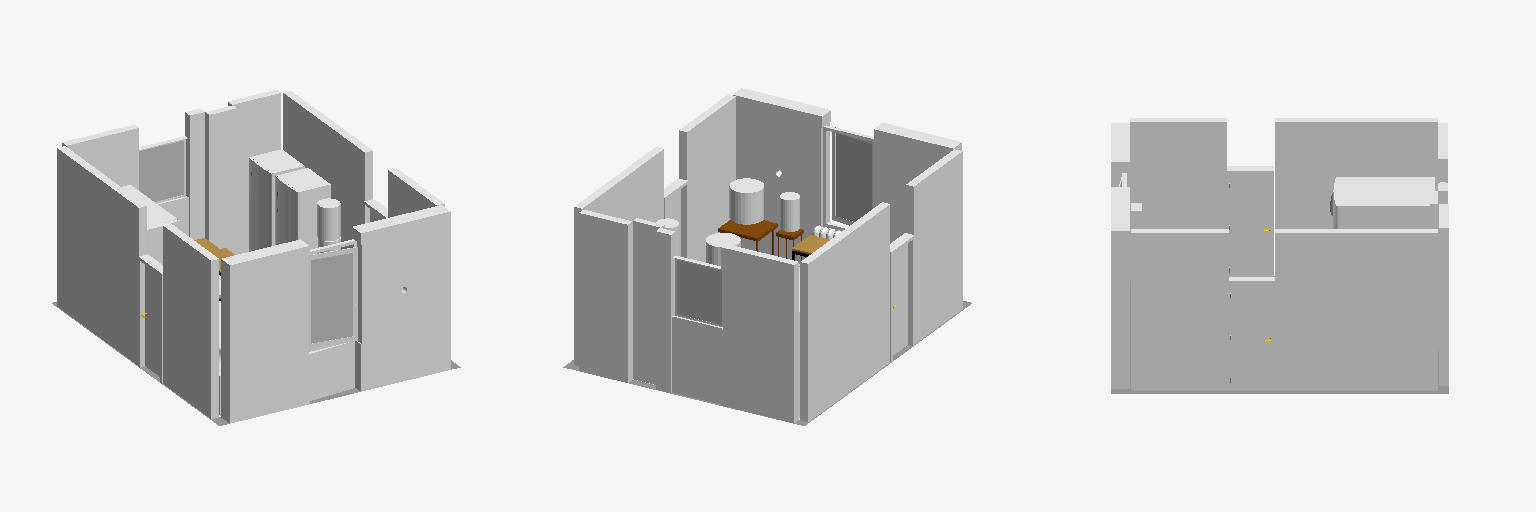
The model's file is Sudhaus.obj.
3 renders of one model, left to right at view 1: azimuth 30°, elevation 25°; view 2: azimuth 150°, elevation 25°; view 3: azimuth 270°, elevation 25°, orthographic.
Parts seen in each view (by area): view 1: wall_1_4, wall_2_11, wall_6_35, wall_5_28, wall_7_40, wall_9_52, wall_8_46, sweethome3d_window_pane_on_hinge_1_81, wall_10_59, sweethome3d_window_pane_142, wall_3_17, wall_12_71 (+15 smaller); view 2: wall_6_35, wall_10_58, wall_1_5, wall_8_47, wall_5_28, wall_4_22, wall_2_10, wall_11_64, wall_9_53, wall_7_40, sweethome3d_window_pane_on_hinge_1_81, wall_12_70 (+12 smaller); view 3: wall_7_41, wall_4_23, wall_6_34, wall_5_29, Corps_206, sweethome3d_opening_on_hinge_1_door_90, sweethome3d_opening_on_hinge_1_door_136, wall_1_4, wall_1_5, ground_1, frame_82, wall_8_46 (+2 smaller).
Boxes of the visible parts, <box> form: wall_1_4: <box>357,212,450,391</box>; wall_2_11: <box>225,246,309,423</box>; wall_6_35: <box>57,148,142,364</box>; wall_5_28: <box>163,226,214,418</box>; wall_7_40: <box>283,93,368,249</box>; wall_9_52: <box>207,108,236,254</box>; wall_8_46: <box>230,93,280,254</box>; sweethome3d_window_pane_on_hinge_1_81: <box>311,253,352,343</box>; wall_10_59: <box>64,128,138,189</box>; sweethome3d_window_pane_142: <box>139,141,183,201</box>; wall_3_17: <box>309,341,354,400</box>; wall_12_71: <box>188,112,204,239</box>; wall_6_35: <box>804,205,889,421</box>; wall_10_58: <box>721,247,796,422</box>; wall_1_5: <box>733,95,826,263</box>; wall_8_47: <box>579,213,629,382</box>; wall_5_28: <box>910,151,962,343</box>; wall_4_22: <box>683,97,735,262</box>; wall_2_10: <box>874,129,957,243</box>; wall_11_64: <box>672,317,721,404</box>; wall_9_53: <box>633,221,662,384</box>; wall_7_40: <box>578,149,663,365</box>; sweethome3d_window_pane_on_hinge_1_81: <box>836,133,871,221</box>; wall_12_70: <box>656,231,672,392</box>; wall_7_41: <box>1275,233,1437,390</box>; wall_4_23: <box>1131,233,1228,390</box>; wall_6_34: <box>1275,122,1437,228</box>; wall_5_29: <box>1130,122,1226,280</box>; Corps_206: <box>1340,177,1434,228</box>; sweethome3d_opening_on_hinge_1_door_90: <box>1231,284,1273,390</box>; sweethome3d_opening_on_hinge_1_door_136: <box>1230,173,1271,276</box>; wall_1_4: <box>1111,231,1120,388</box>; wall_1_5: <box>1121,231,1129,388</box>; ground_1: <box>1111,276,1448,393</box>; frame_82: <box>1228,277,1275,390</box>; wall_8_46: <box>1439,228,1443,385</box>.
Size of the model in its own units: 479 by 300 by 578.